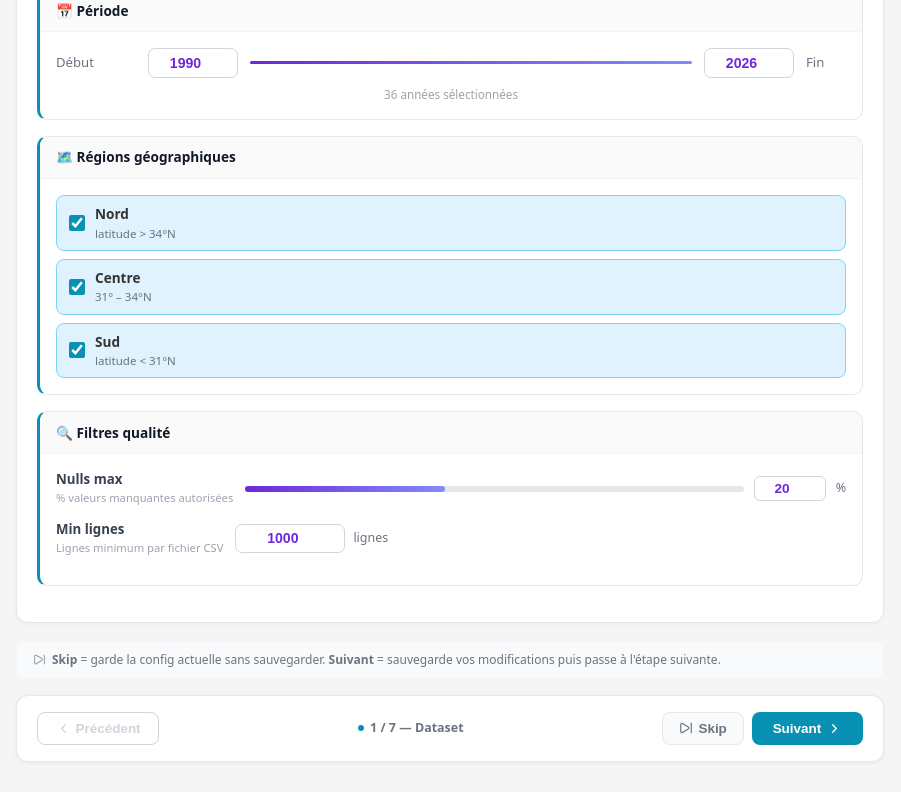
Test: TEST 5 — OrchestratorWizard : skip d'étapes et résumé › le bouton Skip avance à l'étape suivante sans appeler l'API de sauvegarde
(page scrolled)
Click the button "Skip". click: point(703, 728)
box: [662,712,744,745]
(page scrolled)
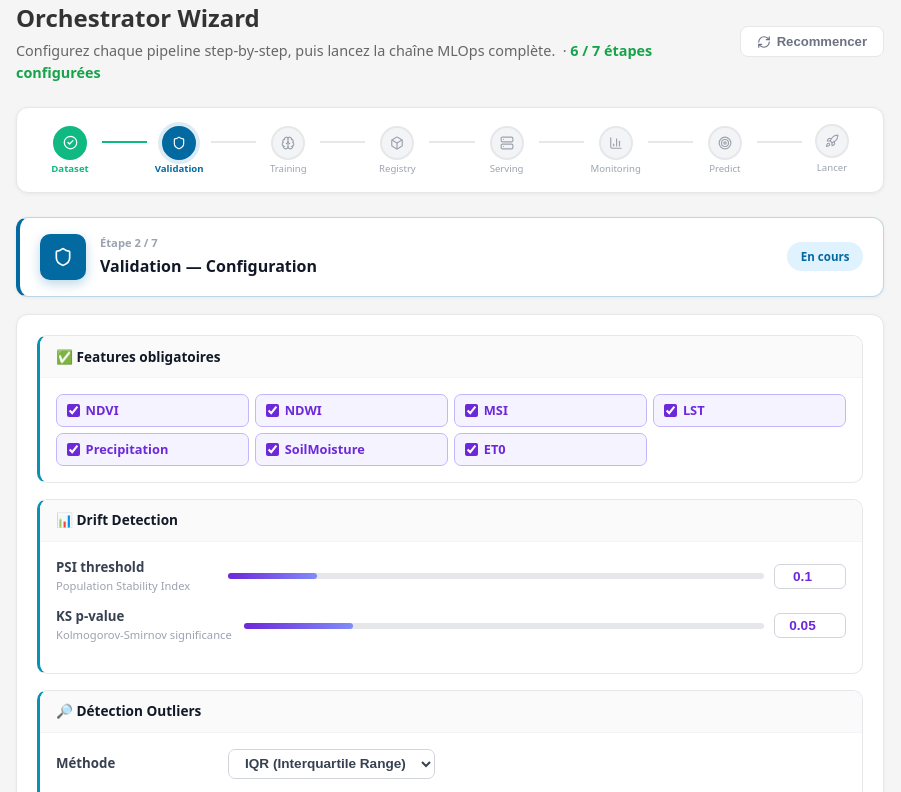
expect the text "Validation — Configuration" is shown: met, box [100,255,317,277]
